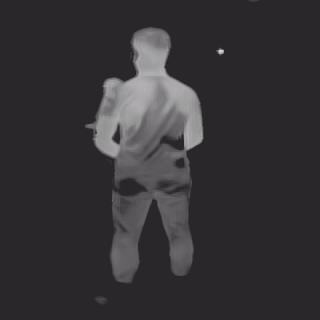Gun: (158, 132, 187, 170)
